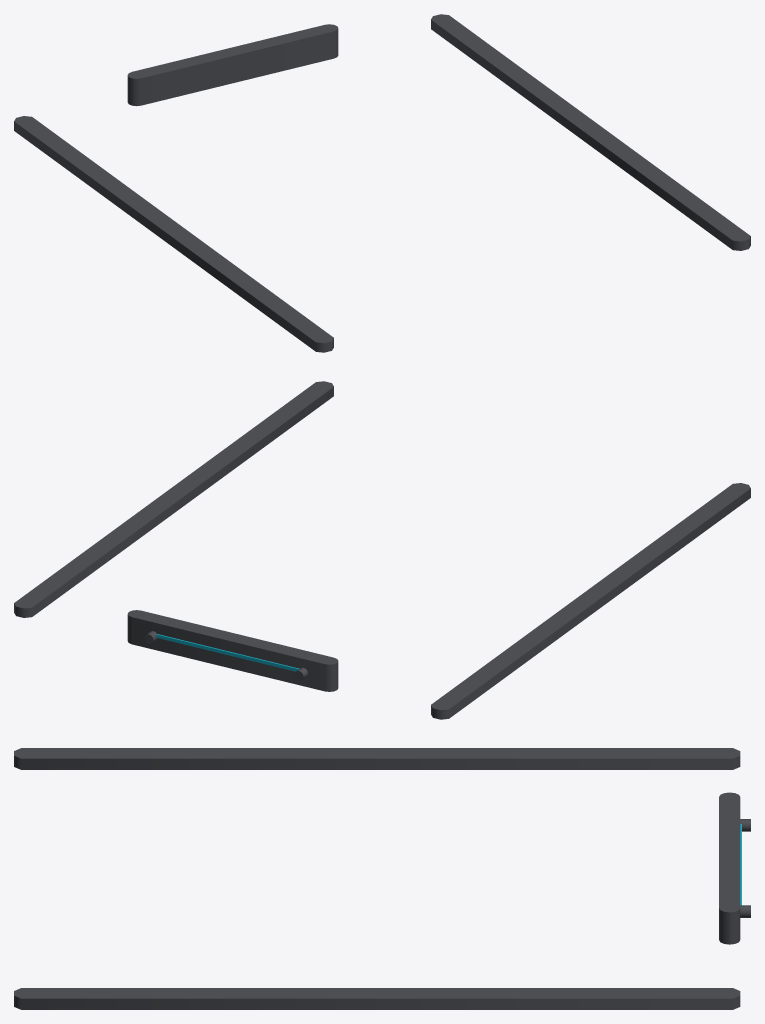
File: n2_mount.obj
3 views of the same model, one above another, from view 1: azimuth 30°, elevation 25°; view 2: azimuth 150°, elevation 25°; view 3: azimuth 270°, elevation 25° (orthographic). The views are drawn at different scales.
Visible parts, largest first — view 1: n2_mount; view 2: n2_mount; view 3: n2_mount.
Boxes of the visible parts, <box> form: n2_mount: <box>14,14,750,352</box>; n2_mount: <box>14,381,750,719</box>; n2_mount: <box>14,748,750,1009</box>.
Size of the model in its own units: 1.67 by 0.1 by 2.08.
